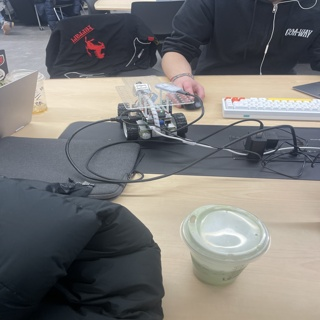vehicle: (110, 80, 196, 139)
